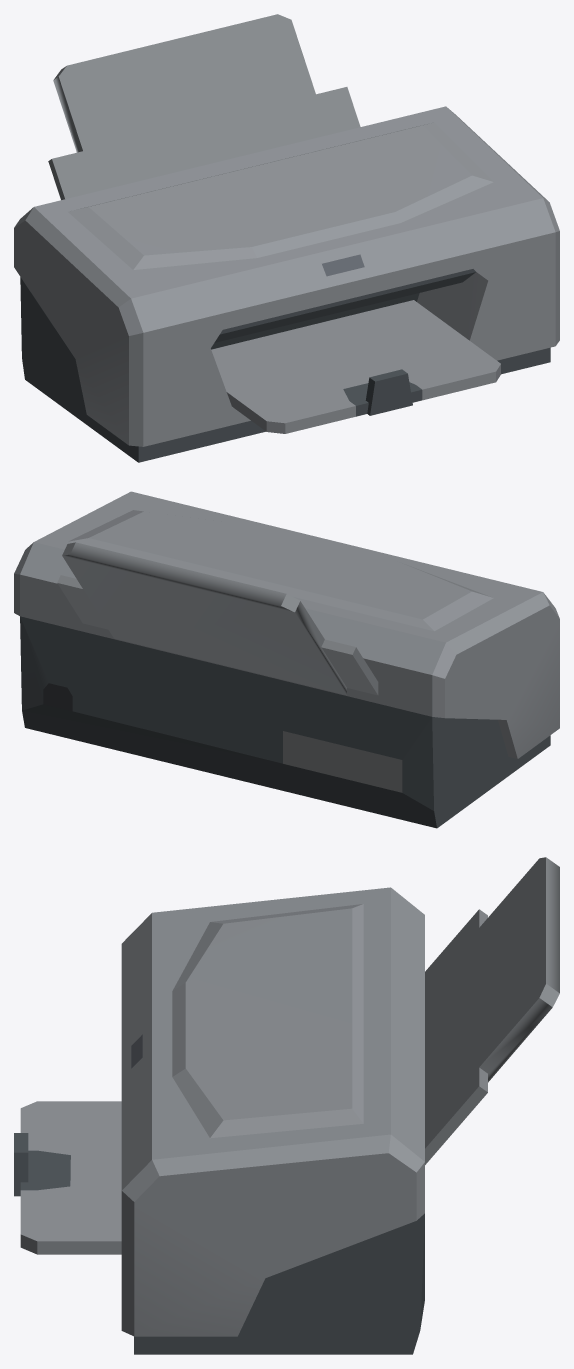
Rendered from printer.glb.
3 views of the same model, one above another, from view 1: azimuth 30°, elevation 25°; view 2: azimuth 150°, elevation 25°; view 3: azimuth 270°, elevation 25° (orthographic). The views are drawn at different scales.
Parts seen in each view (by area): view 1: SM_Prop_Computer_Printer_01; view 2: SM_Prop_Computer_Printer_01; view 3: SM_Prop_Computer_Printer_01.
Boxes of the visible parts, box(x1,y1,x2,y2) form: SM_Prop_Computer_Printer_01: box(14, 14, 559, 462); SM_Prop_Computer_Printer_01: box(14, 491, 559, 828); SM_Prop_Computer_Printer_01: box(14, 857, 559, 1354).
Size of the model in its own units: 0.5802 by 0.3227 by 0.5181.
Materials: 1 (1 with a texture image).
